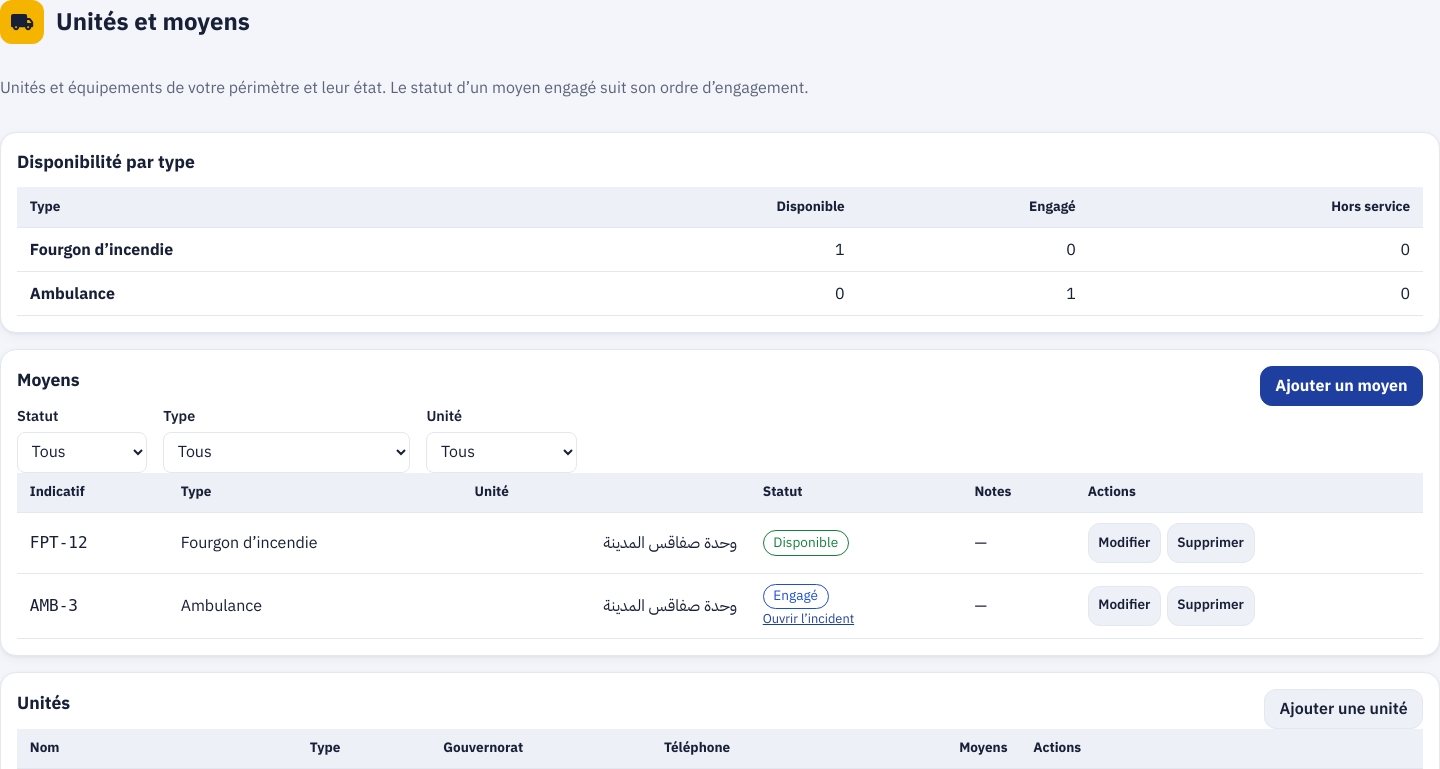
Test: ResourcesPage › keeps an assigned resource's status and unit locked when editing
The image size is (1440, 769).
Click the button with aria-label "Modifier AMB-3": (1124, 606) [1088, 586, 1161, 626]
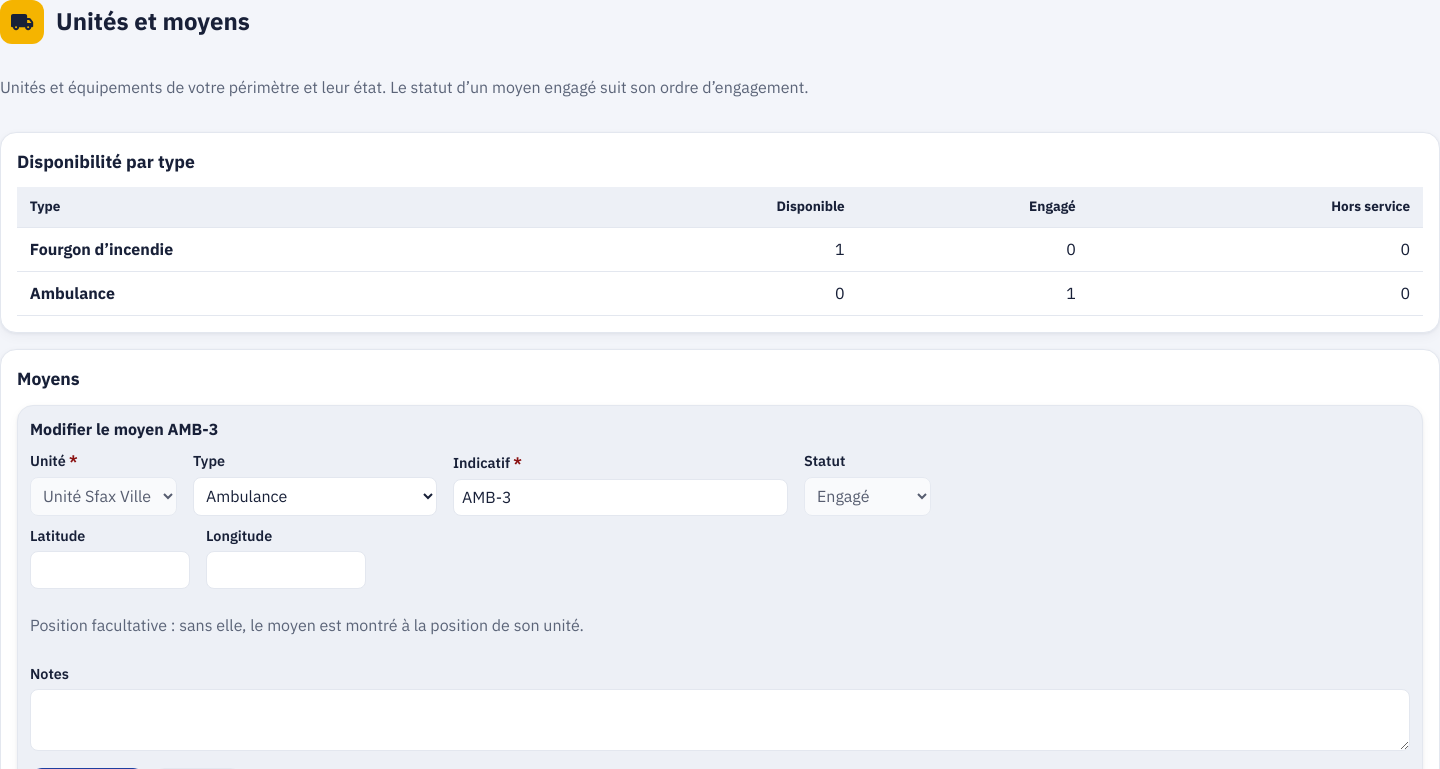
Expected: the dropdown labelled "Statut" is disabled, [804, 477, 931, 516]
Expected: the dropdown labelled "Unité" is disabled, [30, 477, 177, 516]
